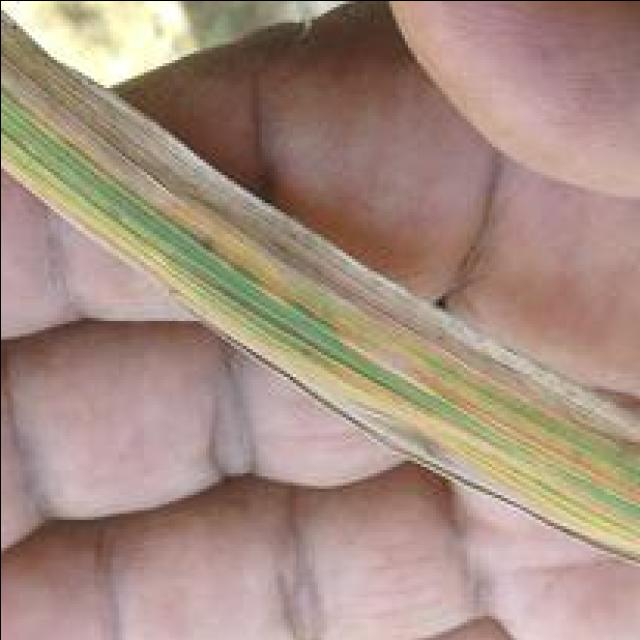Bacterial_Leaf_Blight: (9, 93, 634, 578)
